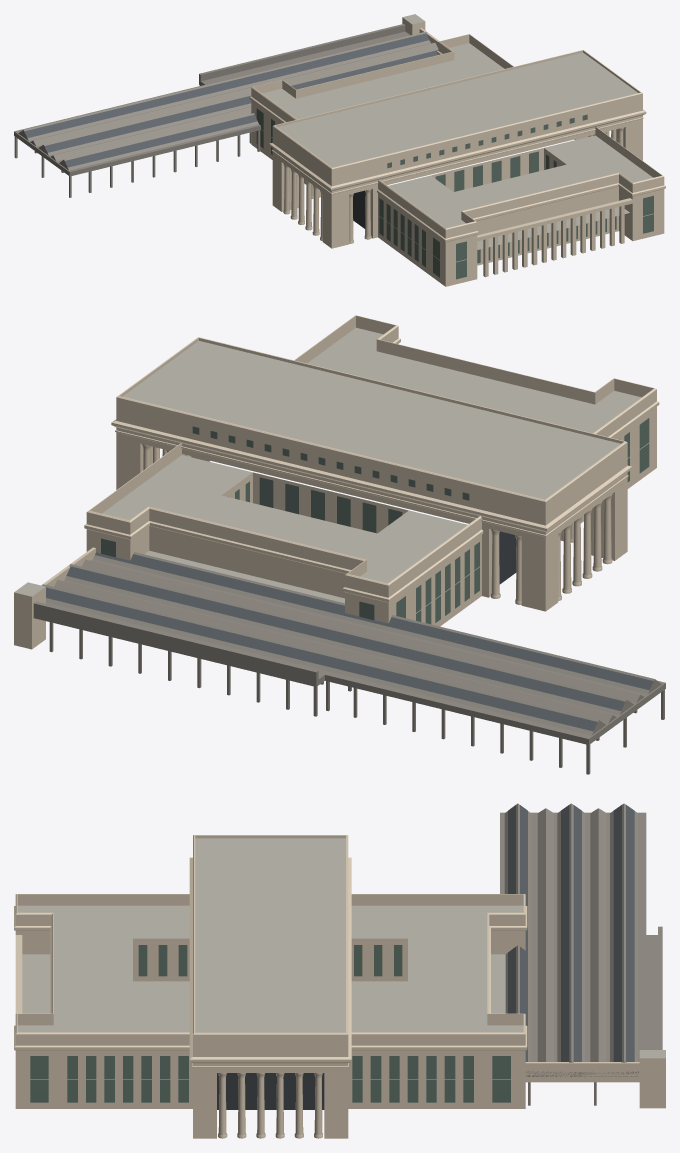
File: phl-30th-street-station.glb
3 views of the same model, one above another, from view 1: azimuth 30°, elevation 25°; view 2: azimuth 150°, elevation 25°; view 3: azimuth 270°, elevation 25° (orthographic). The views are drawn at different scales.
Parts seen in each view (by area): view 1: 30th Street Station; view 2: 30th Street Station; view 3: 30th Street Station.
Boxes of the visible parts, x1,y1,x2,y2 form: 30th Street Station: [14, 14, 665, 286]; 30th Street Station: [14, 315, 665, 774]; 30th Street Station: [14, 803, 665, 1138].
Size of the model in its own units: 211 by 35.2 by 198.
